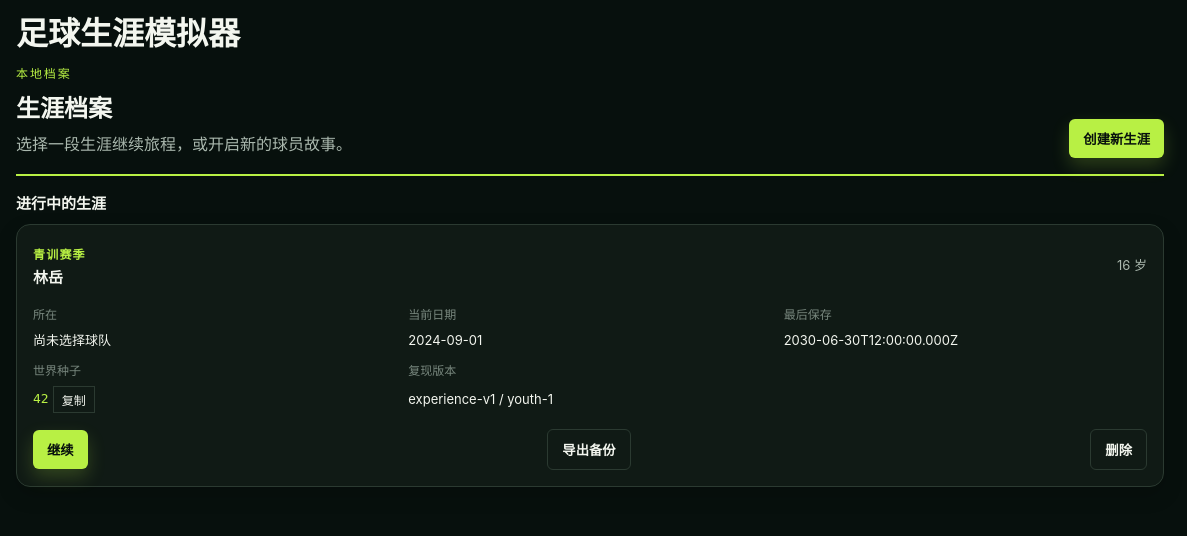
Test case: App › starts an in-memory creation flow without deleting an archived career
Click the button "创建新生涯" at (1117, 138), box [1069,119,1164,158]
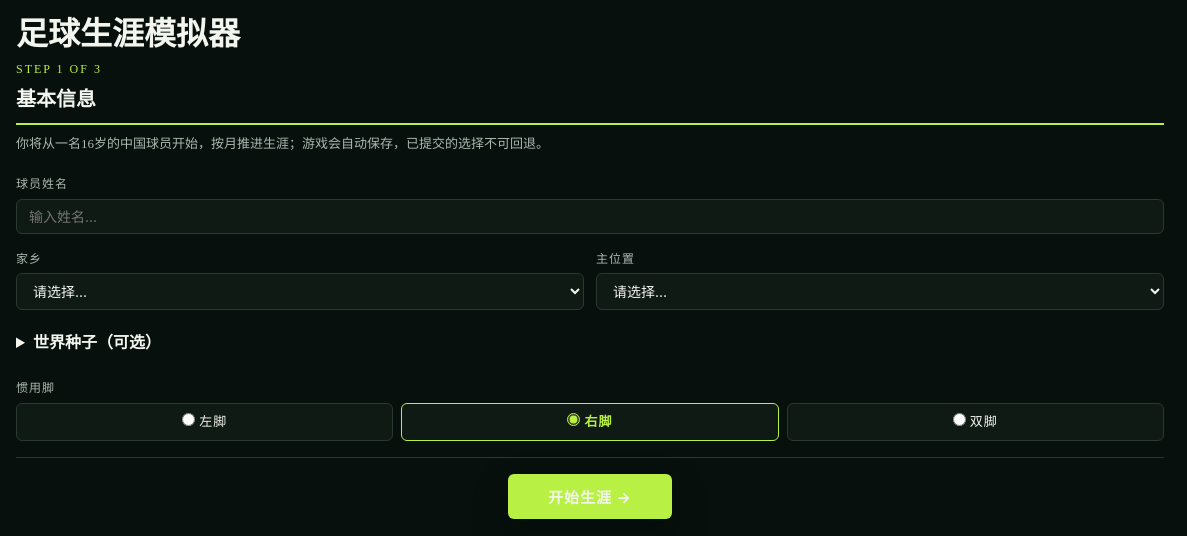
expect the field labelled "球员姓名" is shown: met, box [16,199,1164,234]
